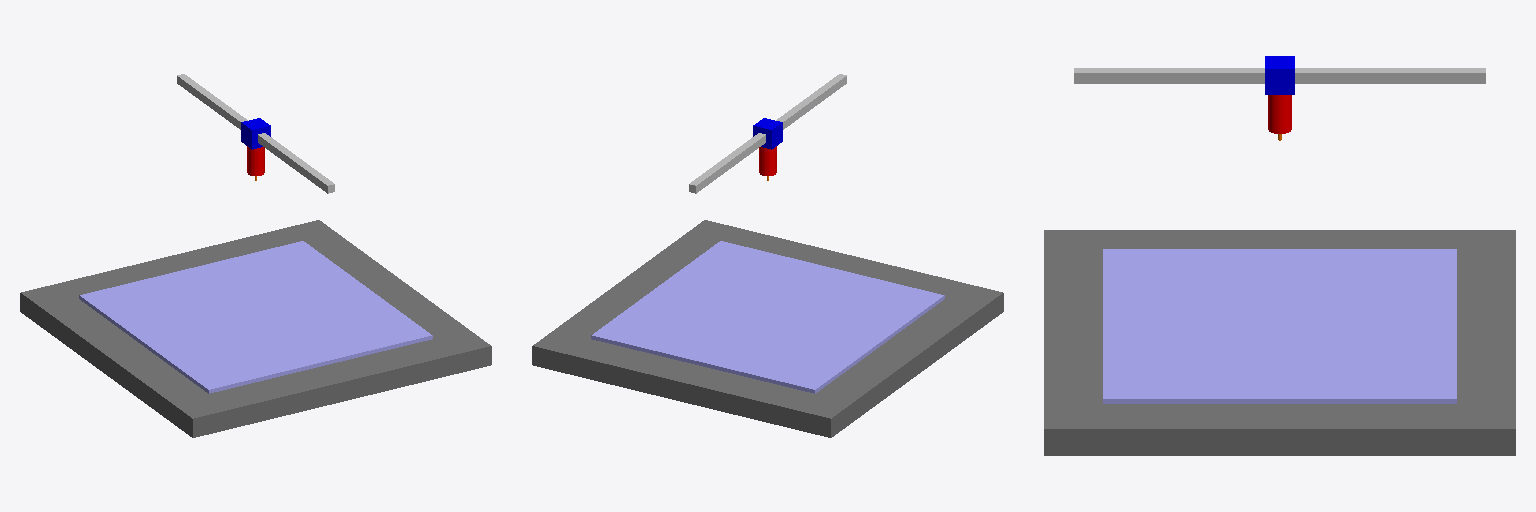
robot.urdf — additive_printer:
<?xml version="1.0"?>
<robot name="additive_printer">
  
  <!-- Base Frame -->
  <link name="world"/>
  
  <!-- Printer Base -->
  <link name="base_link">
    <visual>
      <geometry>
        <box size="0.8 0.8 0.05"/>
      </geometry>
      <material name="gray">
        <color rgba="0.5 0.5 0.5 1"/>
      </material>
    </visual>
    <collision>
      <geometry>
        <box size="0.8 0.8 0.05"/>
      </geometry>
    </collision>
    <inertial>
      <mass value="10"/>
      <inertia ixx="0.1" ixy="0" ixz="0" iyy="0.1" iyz="0" izz="0.1"/>
    </inertial>
  </link>
  
  <joint name="world_to_base" type="fixed">
    <parent link="world"/>
    <child link="base_link"/>
    <origin xyz="0 0 0.025" rpy="0 0 0"/>
  </joint>
  
  <!-- X轴导轨 -->
  <link name="x_rail">
    <visual>
      <geometry>
        <box size="0.02 0.7 0.02"/>
      </geometry>
      <material name="silver">
        <color rgba="0.8 0.8 0.8 1"/>
      </material>
    </visual>
    <collision>
      <geometry>
        <box size="0.02 0.7 0.02"/>
      </geometry>
    </collision>
    <inertial>
      <mass value="0.5"/>
      <inertia ixx="0.01" ixy="0" ixz="0" iyy="0.01" iyz="0" izz="0.01"/>
    </inertial>
  </link>
  
  <joint name="base_to_x_rail" type="prismatic">
    <parent link="base_link"/>
    <child link="x_rail"/>
    <origin xyz="0 0 0.5" rpy="0 0 0"/>
    <axis xyz="1 0 0"/>
    <limit lower="-0.35" upper="0.35" velocity="0.1" effort="100"/>
  </joint>
  
  <!-- Y轴滑块 -->
  <link name="y_carriage">
    <visual>
      <geometry>
        <box size="0.05 0.05 0.05"/>
      </geometry>
      <material name="blue">
        <color rgba="0 0 1 1"/>
      </material>
    </visual>
    <collision>
      <geometry>
        <box size="0.05 0.05 0.05"/>
      </geometry>
    </collision>
    <inertial>
      <mass value="0.2"/>
      <inertia ixx="0.001" ixy="0" ixz="0" iyy="0.001" iyz="0" izz="0.001"/>
    </inertial>
  </link>
  
  <joint name="x_rail_to_y_carriage" type="prismatic">
    <parent link="x_rail"/>
    <child link="y_carriage"/>
    <origin xyz="0 0 0" rpy="0 0 0"/>
    <axis xyz="0 1 0"/>
    <limit lower="-0.35" upper="0.35" velocity="0.1" effort="100"/>
  </joint>
  
  <!-- Z轴挤出头 -->
  <link name="extruder">
    <visual>
      <geometry>
        <cylinder radius="0.02" length="0.1"/>
      </geometry>
      <material name="red">
        <color rgba="1 0 0 1"/>
      </material>
    </visual>
    <collision>
      <geometry>
        <cylinder radius="0.02" length="0.1"/>
      </geometry>
    </collision>
    <inertial>
      <mass value="0.1"/>
      <inertia ixx="0.0001" ixy="0" ixz="0" iyy="0.0001" iyz="0" izz="0.0001"/>
    </inertial>
  </link>
  
  <joint name="y_carriage_to_extruder" type="prismatic">
    <parent link="y_carriage"/>
    <child link="extruder"/>
    <origin xyz="0 0 -0.05" rpy="0 0 0"/>
    <axis xyz="0 0 -1"/>
    <limit lower="0" upper="0.4" velocity="0.05" effort="50"/>
  </joint>
  
  <!-- 喷嘴 - 使用小圆柱体代替圆锥 -->
  <link name="nozzle">
    <visual>
      <geometry>
        <cylinder radius="0.003" length="0.02"/>
      </geometry>
      <material name="orange">
        <color rgba="1 0.5 0 1"/>
      </material>
    </visual>
    <collision>
      <geometry>
        <cylinder radius="0.003" length="0.02"/>
      </geometry>
    </collision>
    <inertial>
      <mass value="0.01"/>
      <inertia ixx="0.00001" ixy="0" ixz="0" iyy="0.00001" iyz="0" izz="0.00001"/>
    </inertial>
  </link>
  
  <joint name="extruder_to_nozzle" type="fixed">
    <parent link="extruder"/>
    <child link="nozzle"/>
    <origin xyz="0 0 -0.06" rpy="0 0 0"/>
  </joint>
  
  <!-- 打印平台 -->
  <link name="build_plate">
    <visual>
      <geometry>
        <box size="0.6 0.6 0.01"/>
      </geometry>
      <material name="glass">
        <color rgba="0.7 0.7 1 0.8"/>
      </material>
    </visual>
    <collision>
      <geometry>
        <box size="0.6 0.6 0.01"/>
      </geometry>
    </collision>
  </link>
  
  <joint name="base_to_build_plate" type="fixed">
    <parent link="base_link"/>
    <child link="build_plate"/>
    <origin xyz="0 0 0.03" rpy="0 0 0"/>
  </joint>
  
</robot>

--- What the picture shows (computed from the rendered views, not written in the file) ---
The picture shows the robot from 3 angles, left to right: view 1: azimuth 30°, elevation 25°; view 2: azimuth 150°, elevation 25°; view 3: azimuth 270°, elevation 25°; orthographic projection.
Model additive_printer with 7 links and 6 joints (3 prismatic, 3 fixed), rooted at world, posed every joint at zero.
Visible links, largest first — view 1: base_link, build_plate, x_rail, y_carriage; view 2: base_link, build_plate, x_rail, y_carriage; view 3: build_plate, base_link, x_rail, y_carriage, extruder.
Link boxes in pixels (x1,y1,x2,y2): base_link: (20,220,491,437); build_plate: (79,241,432,393); x_rail: (177,74,334,193); y_carriage: (241,118,270,149); base_link: (532,220,1003,437); build_plate: (591,241,944,393); x_rail: (689,74,846,193); y_carriage: (753,118,782,149); build_plate: (1103,249,1456,403); base_link: (1044,230,1515,455); x_rail: (1074,68,1485,83); y_carriage: (1265,56,1294,94); extruder: (1268,95,1291,133).
Size in the robot's own frame: 0.8 by 0.8 by 0.55 metres.
Geometry: primitives only (box / cylinder / sphere), no mesh files.
